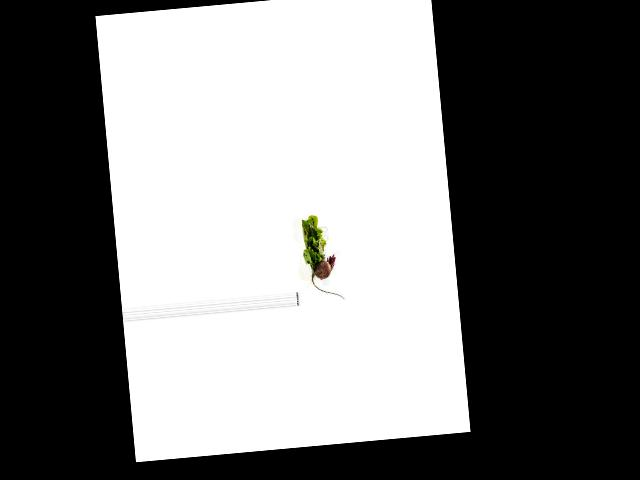beet: (309, 253, 344, 302)
